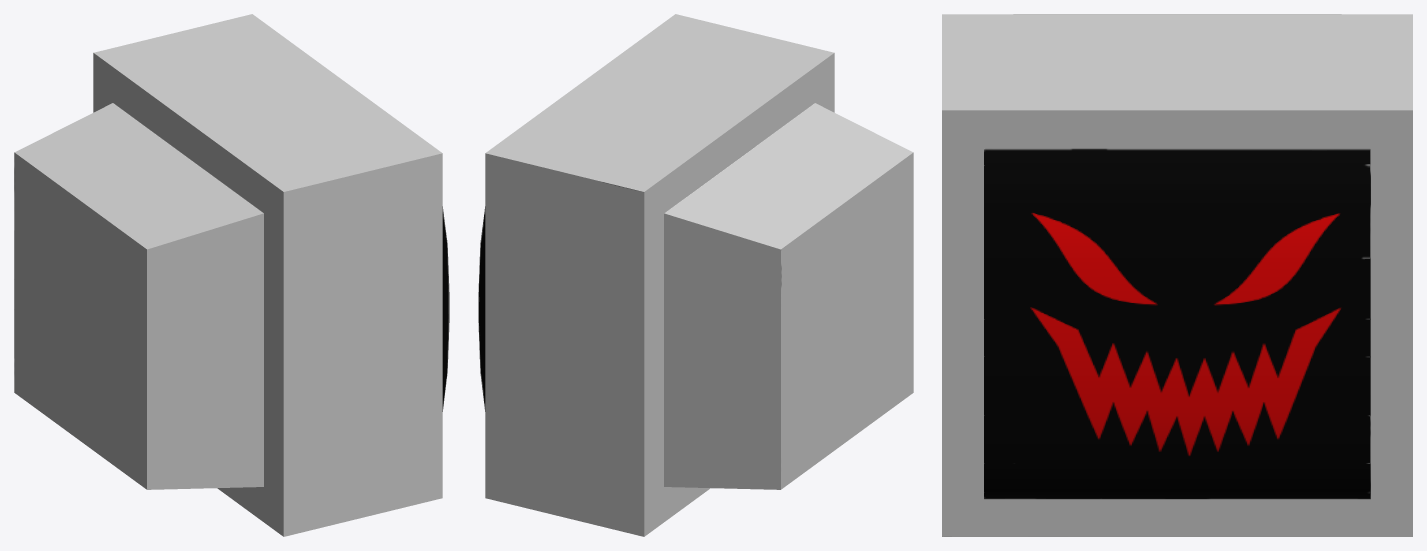
The model's file is evilBoss.fbx.
3 views of the same model, side by side, from view 1: azimuth 30°, elevation 25°; view 2: azimuth 150°, elevation 25°; view 3: azimuth 270°, elevation 25° (orthographic). The views are drawn at different scales.
Visible parts, largest first — view 1: evilBoss; view 2: evilBoss; view 3: evilBoss.
Part boxes in pixels (x1,y1,x2,y2): evilBoss: (14,14,449,536); evilBoss: (478,14,913,536); evilBoss: (942,14,1412,536).
Bounding box in the file's own units: 322 × 365 × 365.
Materials: 1 (1 with a texture image).
